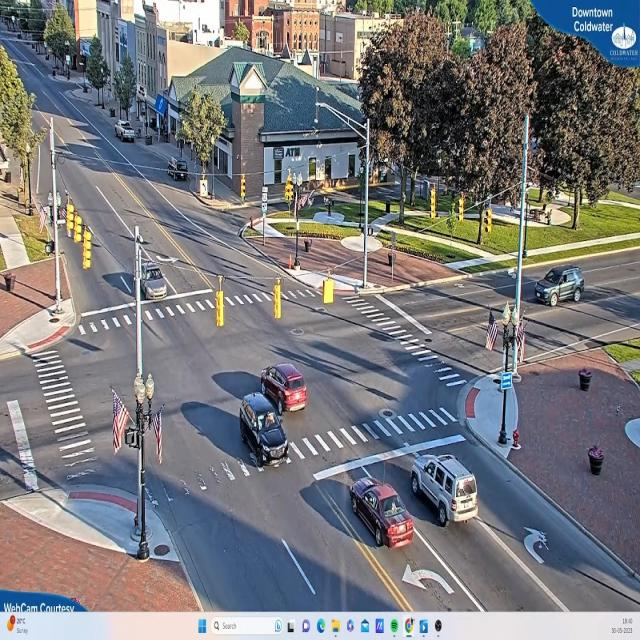car: (407, 453, 480, 530), (350, 482, 414, 552), (238, 393, 290, 471), (260, 366, 308, 414), (533, 266, 584, 306), (138, 262, 173, 298), (116, 123, 136, 143)
